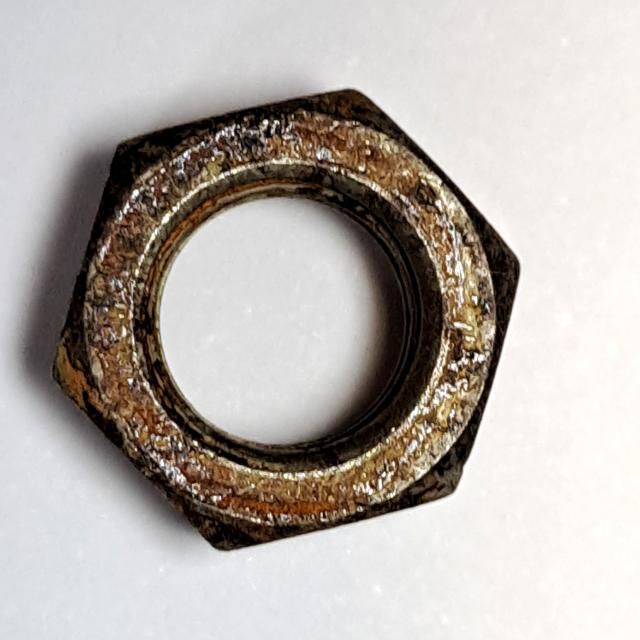Rust: (36, 79, 528, 570)
